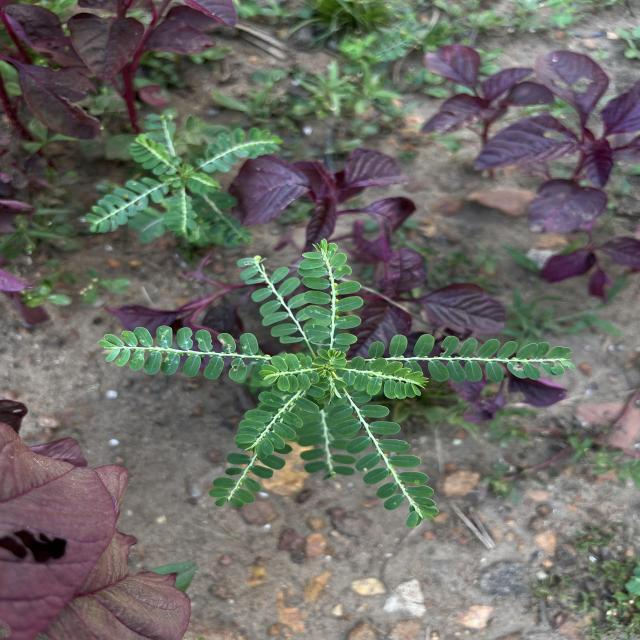Phyllanthus niruri: (327, 386, 441, 528), (366, 332, 576, 384), (98, 324, 262, 382), (298, 235, 365, 354), (233, 388, 320, 456), (343, 356, 431, 400)
